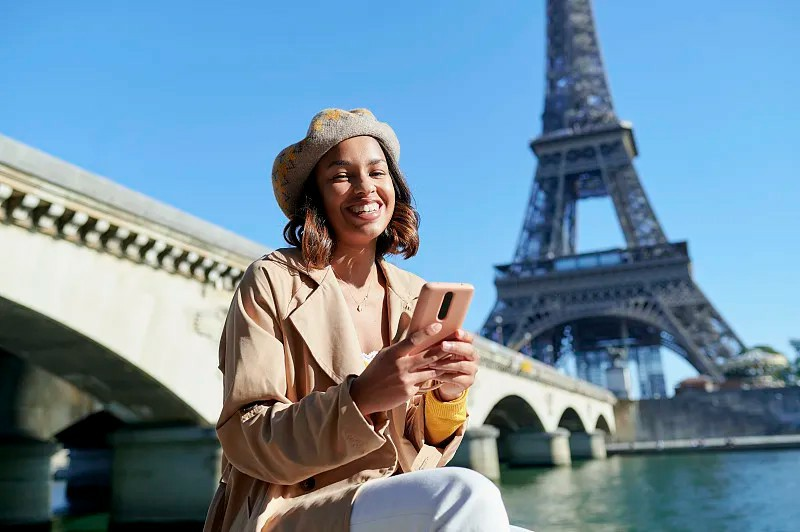Eiffel: (474, 1, 749, 394)
